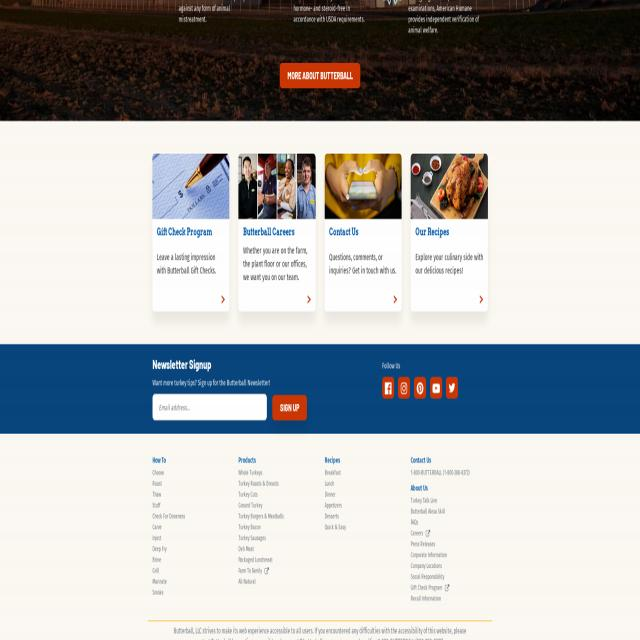button: (238, 153, 316, 311), (152, 154, 230, 312), (324, 154, 402, 312), (410, 154, 487, 312), (280, 63, 360, 88), (273, 396, 307, 420), (414, 376, 426, 398), (429, 378, 442, 398), (398, 377, 410, 398), (446, 378, 458, 398), (382, 378, 394, 397)
field: (152, 394, 268, 420)
